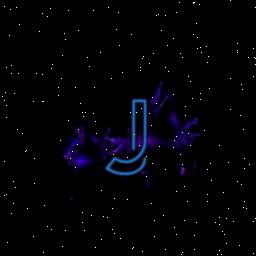j: (102, 92, 156, 180)
